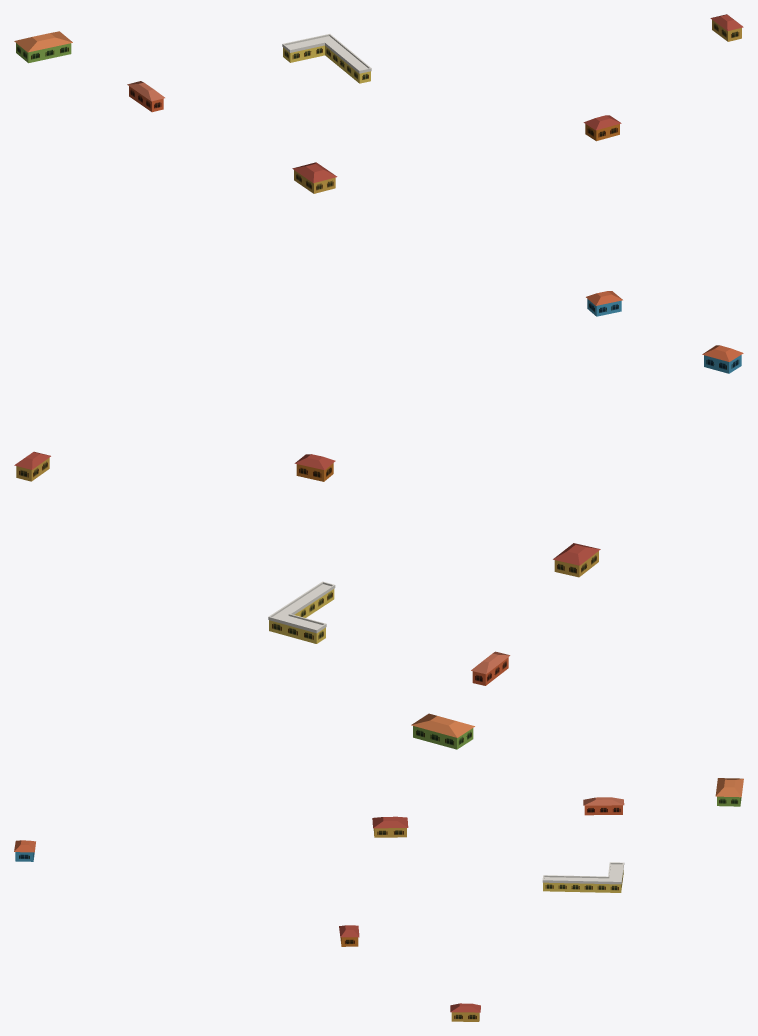
Rendered from msb_oranjestad_m19_m4.glb.
3 views of the same model, one above another, from view 1: azimuth 30°, elevation 25°; view 2: azimuth 150°, elevation 25°; view 3: azimuth 270°, elevation 25° (orthographic). The views are drawn at different scales.
Visible parts, largest first — view 1: msb_oranjestad_m19_m4_lod0; view 2: msb_oranjestad_m19_m4_lod0; view 3: msb_oranjestad_m19_m4_lod0.
Part boxes in pixels (x1,y1,x2,y2): msb_oranjestad_m19_m4_lod0: [14, 14, 743, 316]; msb_oranjestad_m19_m4_lod0: [14, 345, 743, 749]; msb_oranjestad_m19_m4_lod0: [14, 778, 743, 1021].
Size of what is drawn, in the model's own units: 178 by 8.01 by 232.
Materials: 3 (1 with a texture image).
